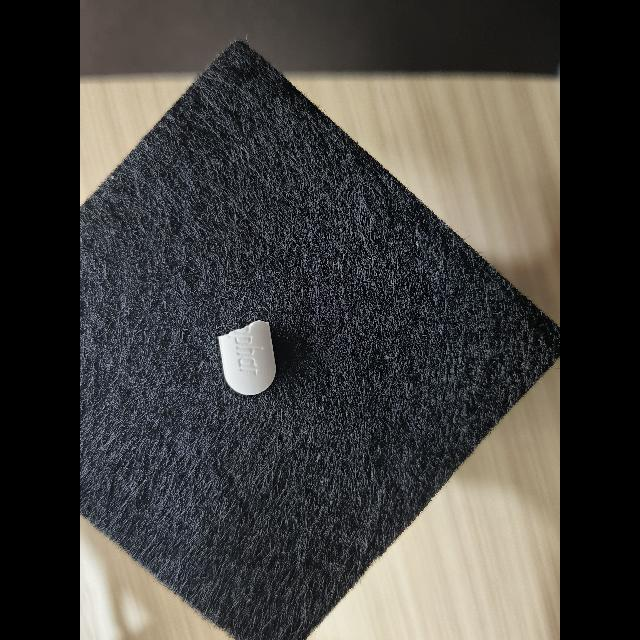Chipped Pill: (218, 320, 276, 395)
